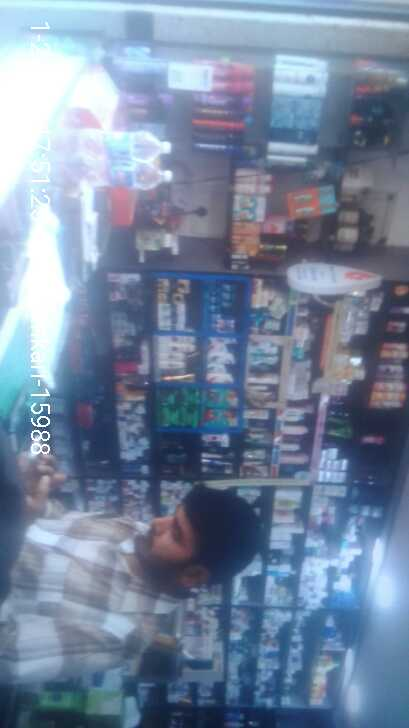beauty: (209, 350, 239, 367), (157, 334, 198, 346), (155, 343, 199, 354), (159, 360, 201, 370), (159, 351, 184, 363)
pharmacy: (202, 385, 241, 410), (158, 385, 200, 407), (157, 407, 199, 428), (201, 406, 239, 428)
